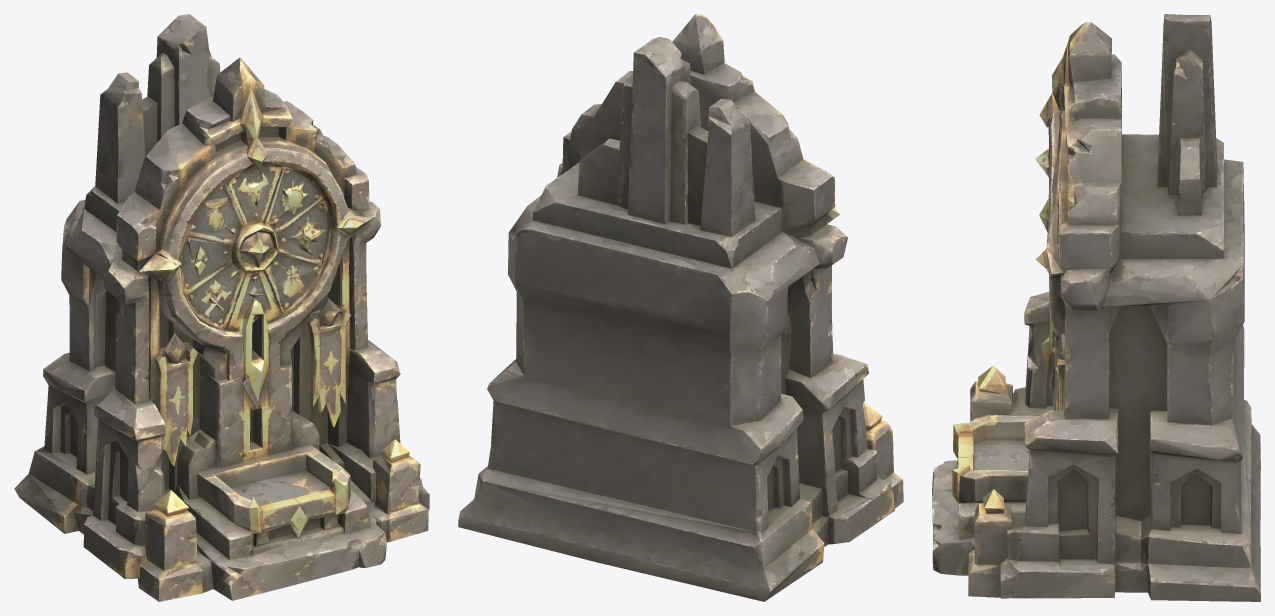
The model's file is shrine_fortune.glb.
3 views of the same model, side by side, from view 1: azimuth 30°, elevation 25°; view 2: azimuth 150°, elevation 25°; view 3: azimuth 270°, elevation 25° (orthographic). The views are drawn at different scales.
Visible parts, largest first — view 1: body; view 2: body; view 3: body.
Part boxes in pixels (x1,y1,x2,y2): body: (14,14,429,601); body: (458,14,903,601); body: (932,14,1260,601).
Bounding box in the file's own units: 1.33 × 2 × 1.16.
1 material, 1 textured.
